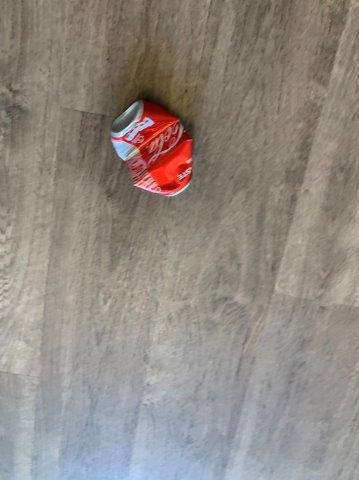kaleng: (111, 102, 194, 196)
